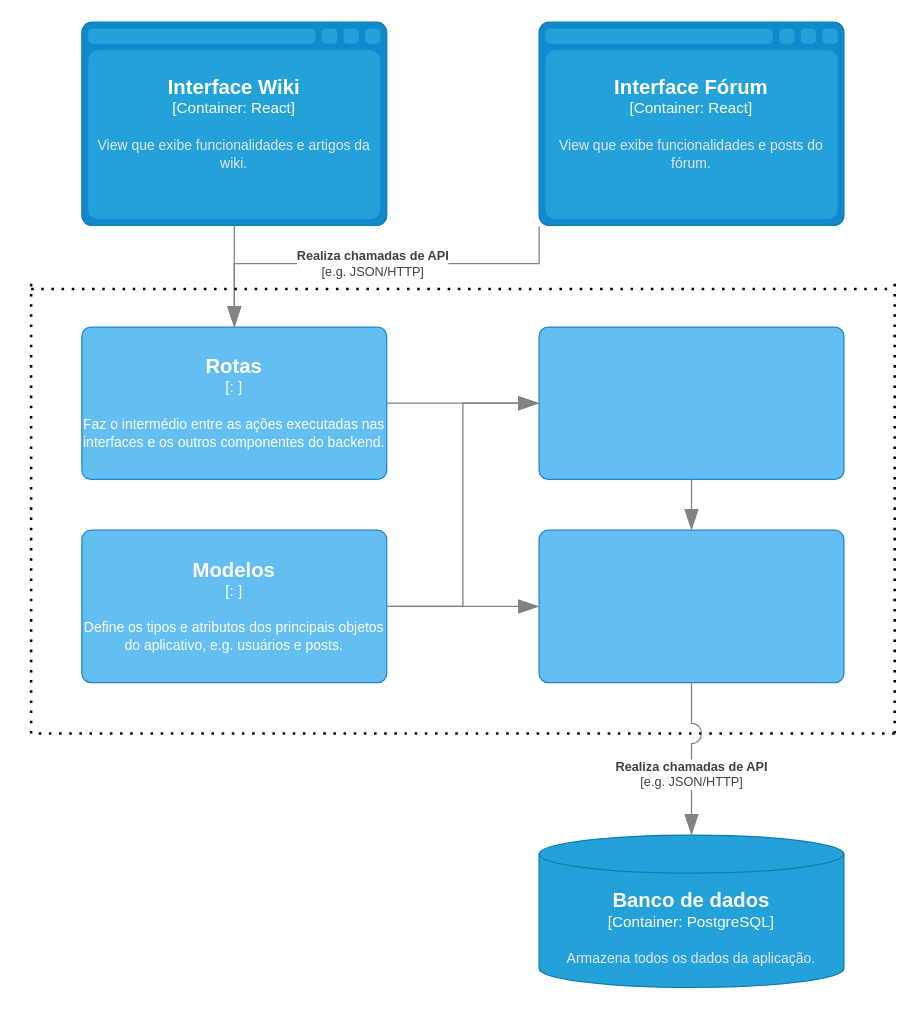
Some shapes in this 918 by 1010 pixel diagram are drawn without their labels. Here are the shapes that lost their labels. From the top down, the centre of each, then its label:
point 691,402: Serviços [: ] Executa as ações que chegam das rotas.
point 691,606: Repositórios [: ] Executa as interações diretamente com o DB.
